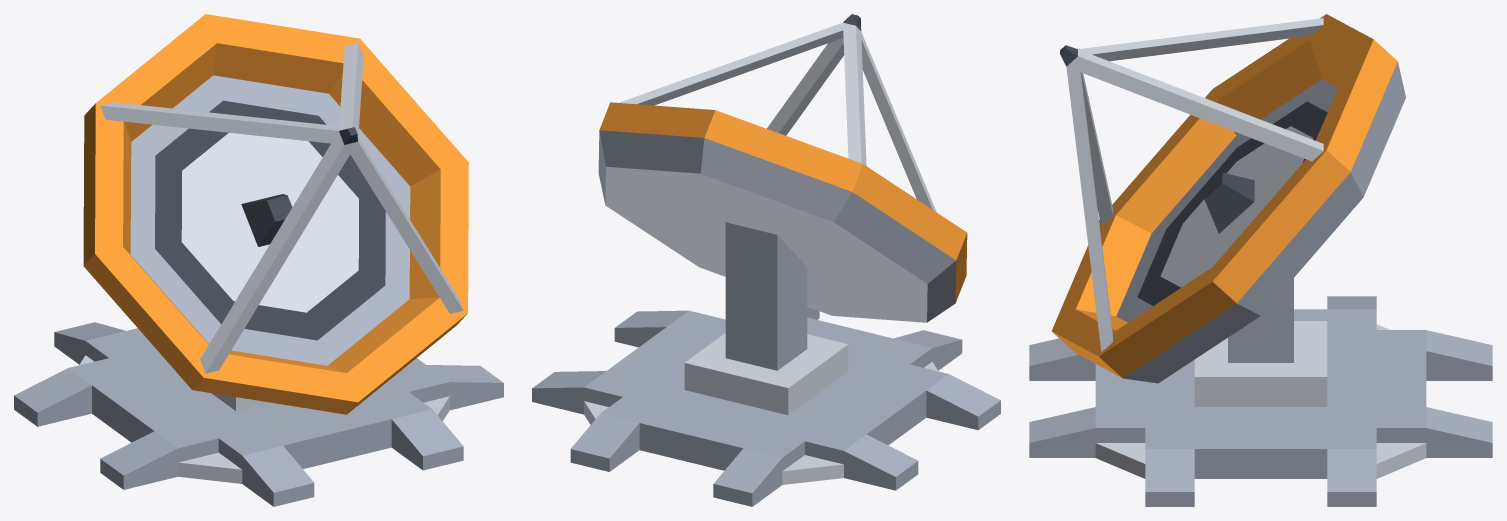
The model's file is satelliteDish_detailed.obj.
3 views of the same model, side by side, from view 1: azimuth 30°, elevation 25°; view 2: azimuth 150°, elevation 25°; view 3: azimuth 270°, elevation 25° (orthographic). The views are drawn at different scales.
Parts seen in each view (by area): view 1: satelliteDish_detailed; view 2: satelliteDish_detailed; view 3: satelliteDish_detailed.
Boxes of the visible parts, box(x1,y1,x2,y2) form: satelliteDish_detailed: box(14, 14, 503, 506); satelliteDish_detailed: box(532, 14, 1000, 506); satelliteDish_detailed: box(1029, 14, 1492, 506).
Size of the model in its own units: 0.7 by 0.6165 by 0.7.
